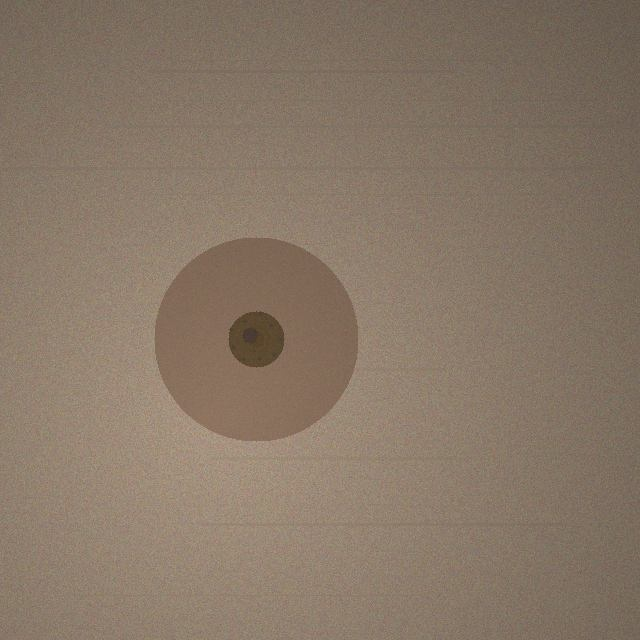cold_weld: (154, 237, 358, 441)
